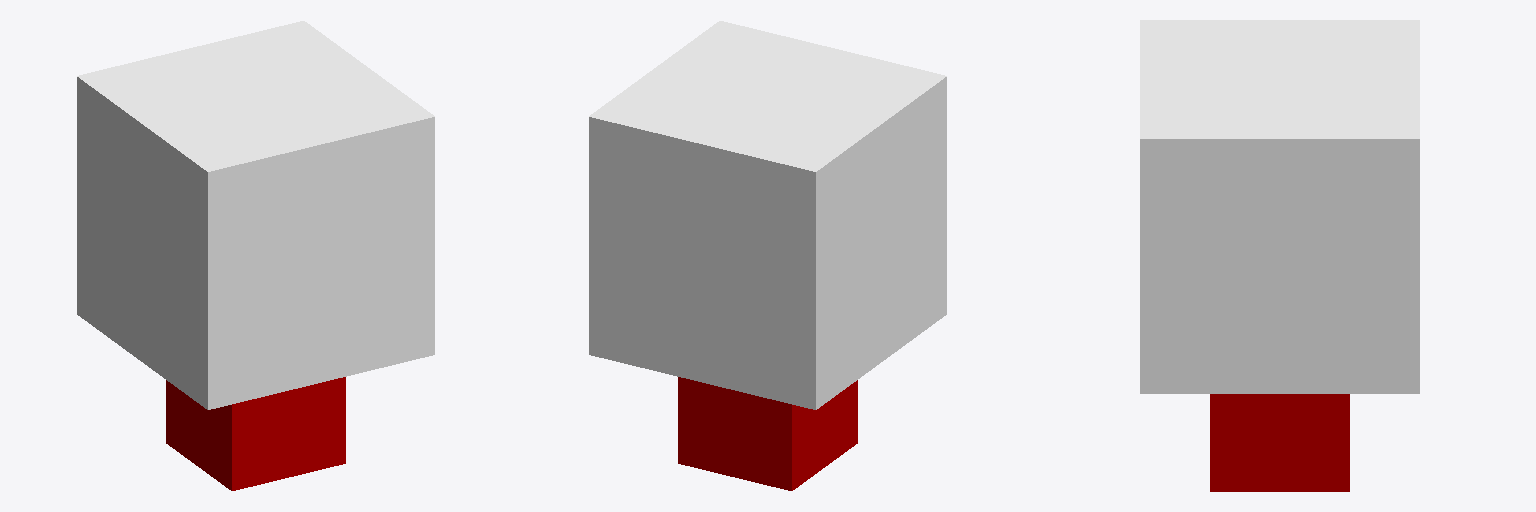
The robot description file, URDF, robot "box":
<?xml version="1.0" ?>
<robot name = "box">
  <material name="white">
    <color rgba="1.0 1.0 1.0 1.0"/>
  </material>
  <material name="metal">
    <color rgba="0.768627450980392 0.749019607843137 0.729411764705882 1"/>
  </material>
  <material name="metal_grey">
    <color rgba="0.501960784313725 0.501960784313725 0.501960784313725 1"/>
  </material>
  <material name="metal_white">
    <color rgba="0.866666666666667 0.866666666666667 0.890196078431373 1"/>
  </material>
    <material name="red">
    <color rgba="0.8 0.0 0.0 1.0"/>
  </material>
  <link name="world">
  </link>
  <joint name="world_fixed" type="fixed">
    <origin rpy="0 0 0" xyz="0 0 0.25"/>
    <parent link="world"/>
    <child link="ft_sensor"/>
  </joint>


  <link name="ft_sensor">
    <inertial>
      <mass value="10"/>
      <inertia ixx="0.0" ixy="0.0" ixz="0.0" iyy="0.1" iyz="0.0" izz="0.1"/>
    </inertial>
    <visual>
    <geometry>
      <box size="0.5 0.5 0.5"/>
    </geometry>
	<origin xyz="0 0 0"/>
	<material name="red">
        </material>
    </visual>
    <collision>
      <geometry>
        <box size="0.5 0.5 0.5"/>
      </geometry>
      <material name="white">
      </material>
    </collision>
  </link>

<joint name="FT_joint" type="floating">
    <origin rpy="0 0 0" xyz="0 0 0.75"/>
    <parent link="ft_sensor"/>
    <child link="box"/>
  </joint>

 <link name="box">
    <inertial>
      <mass value="100"/>
      <inertia ixx="0.1816" ixy="0.0" ixz="0.0" iyy="0.1816" iyz="0.0" izz="0.1816"/>
    </inertial>
    <visual>
    <geometry>
      <box size="1 1 1"/>
    </geometry>
	<origin xyz="0 0 0"/>
	<material name="white">
        </material>
    </visual>
    <collision>
      <geometry>
        <box size="1 1 1"/>
      </geometry>
      <material name="white">
      </material>
    </collision>
  </link>

</robot>

--- Render facts (derived) ---
3 views of the same robot in one strip: view 1: azimuth 30°, elevation 25°; view 2: azimuth 150°, elevation 25°; view 3: azimuth 270°, elevation 25° (orthographic).
Model box with 3 links and 2 joints (1 fixed, 1 floating), rooted at world, posed every joint at zero.
Links seen in each view (by area): view 1: box, ft_sensor; view 2: box, ft_sensor; view 3: box, ft_sensor.
Boxes of the visible links, x1,y1,x2,y2 form: box: (77, 21, 434, 409); ft_sensor: (166, 377, 345, 490); box: (589, 21, 946, 409); ft_sensor: (678, 377, 857, 490); box: (1140, 20, 1419, 393); ft_sensor: (1210, 394, 1349, 491).
Size in the robot's own frame: 1 by 1 by 1.5 metres.
Geometry: primitives only (box / cylinder / sphere), no mesh files.